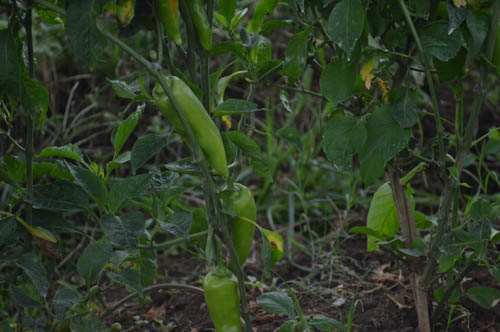ChiliPepper: (159, 79, 231, 175), (224, 187, 253, 269), (200, 272, 244, 326)
